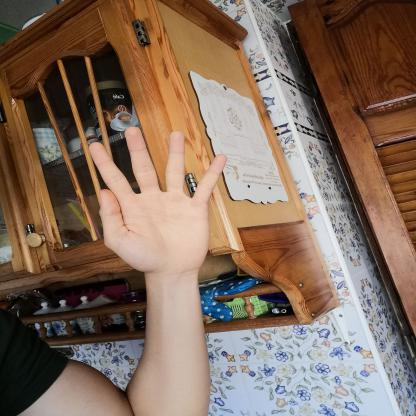SHEEN: (77, 121, 238, 281)
